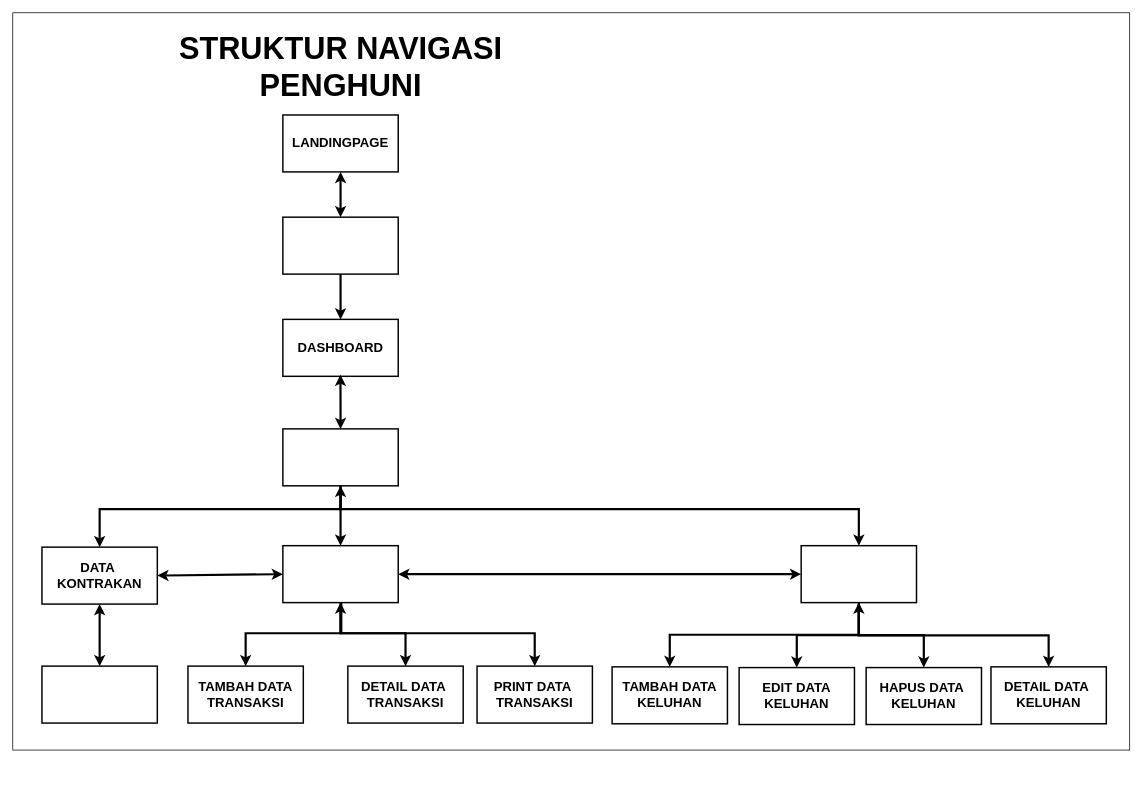
This 1142x810 diagram has some shape labels left out. The centre of each missing label's shape, as x and y in pixels:
"DATA KELUHAN" goes at (x=858, y=574).
"DATA TRANSAKSI" goes at (x=340, y=574).
"DETAIL DATA KONTRAKAN" goes at (x=99, y=694).
"KELOLA DATA" goes at (x=340, y=457).
"LOGIN / REGISTER" goes at (x=340, y=245).
